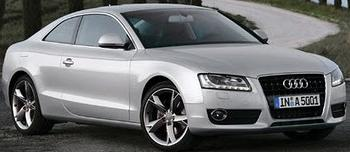front_view: (196, 63, 349, 133)
headlight: (196, 71, 254, 95)
side_glass: (44, 16, 128, 49)
